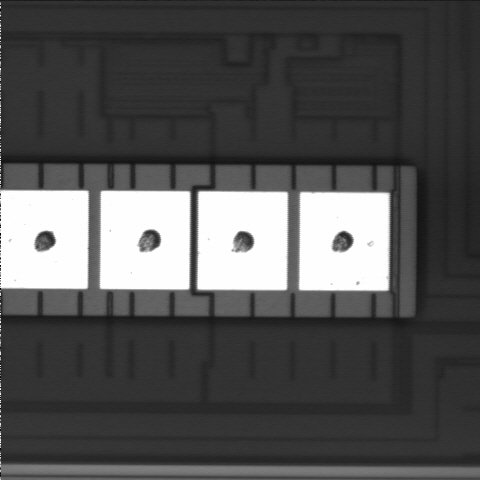pad: (198, 191, 288, 290), (299, 192, 389, 291), (100, 191, 190, 289)
